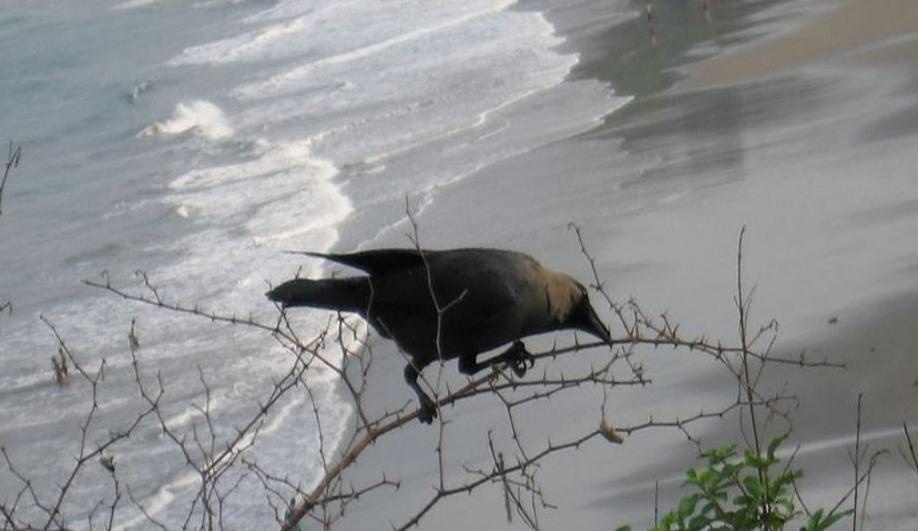crow: (284, 234, 632, 400)
